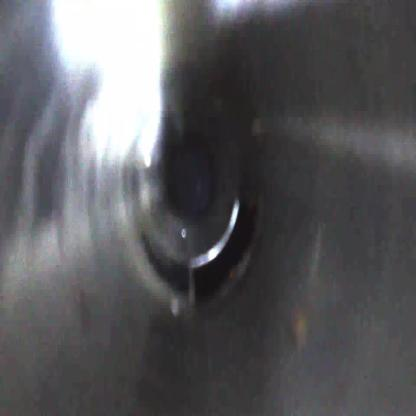Crack2: (186, 191, 262, 310)
